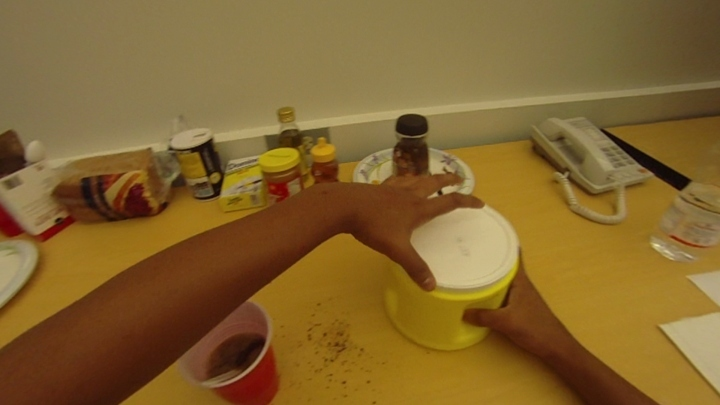hand: (345, 164, 481, 293), (465, 239, 562, 360)
